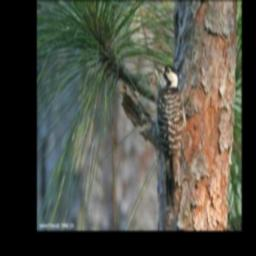Woodpecker: (153, 64, 195, 215)
